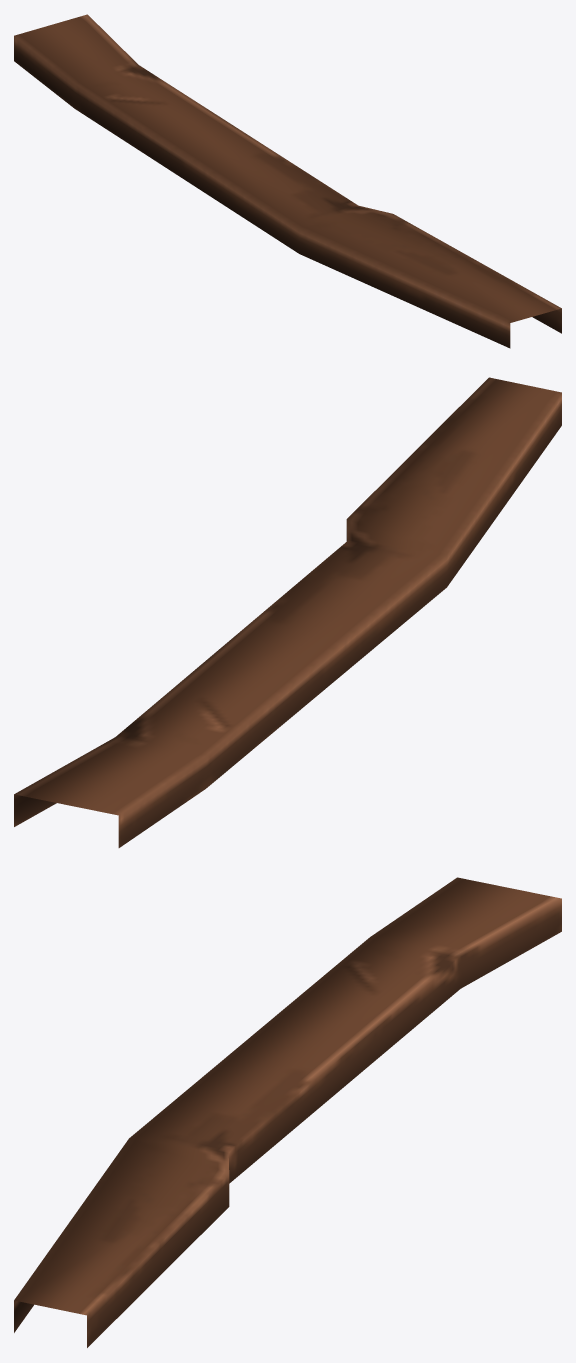
Rendered from sn_jiguan_tielong_007.FBX.
3 renders of one model, top to bottom at view 1: azimuth 30°, elevation 25°; view 2: azimuth 150°, elevation 25°; view 3: azimuth 330°, elevation 25°, orthographic. The views are drawn at different scales.
Parts seen in each view (by area): view 1: sn_jiguan_tielong_007; view 2: sn_jiguan_tielong_007; view 3: sn_jiguan_tielong_007.
Part boxes in pixels (x1,y1,x2,y2): sn_jiguan_tielong_007: (14, 14, 561, 348); sn_jiguan_tielong_007: (14, 377, 561, 847); sn_jiguan_tielong_007: (14, 877, 561, 1347).
Bounding box in the file's own units: 56.91 × 10.24 × 308.
